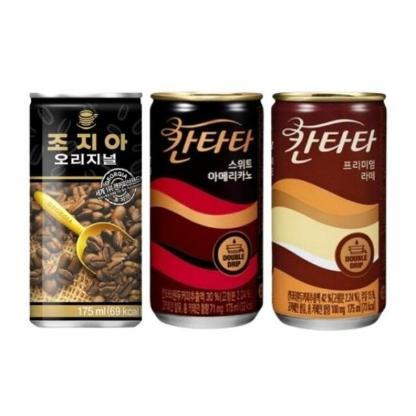Can: (23, 87, 145, 334), (147, 84, 265, 332), (270, 87, 388, 331)
